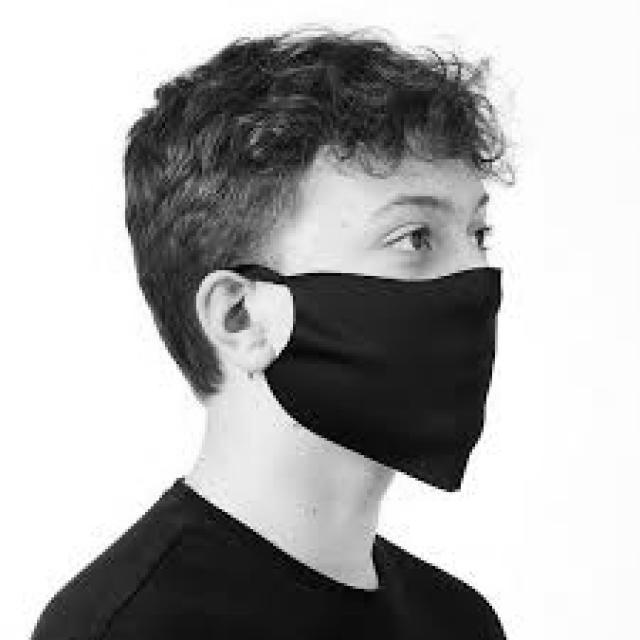fake: (232, 262, 511, 526)
real: (287, 140, 507, 507)
